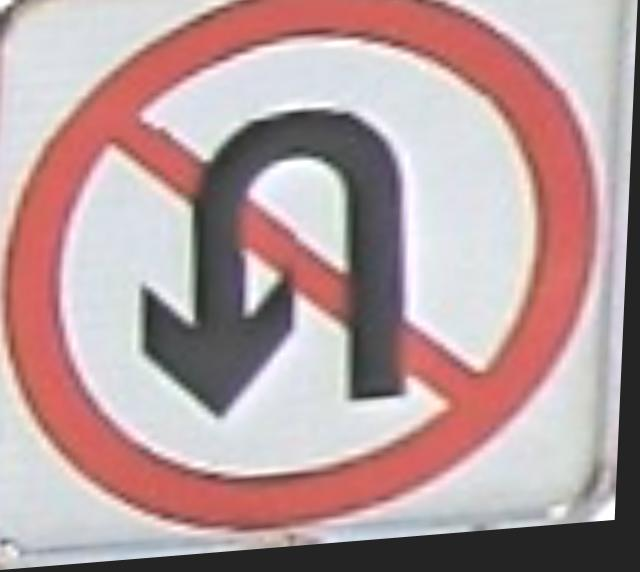not_u_turn_left: (1, 0, 623, 543)
